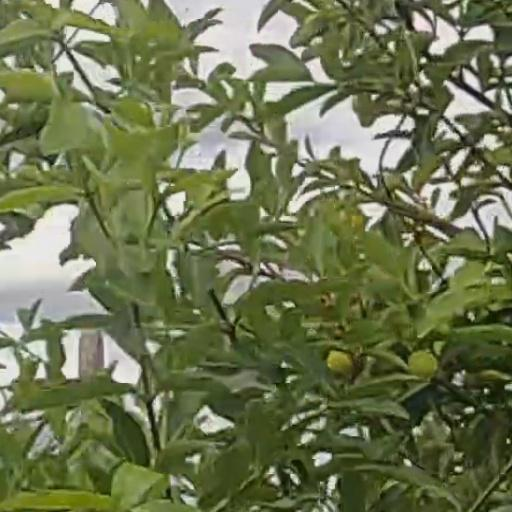acerola_verde: (409, 353, 434, 377)
